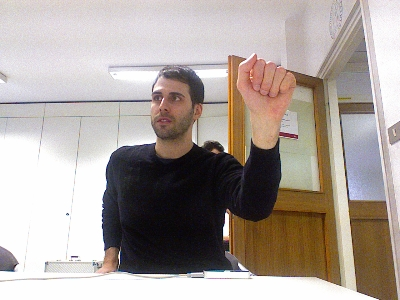石头: (235, 52, 297, 117)
